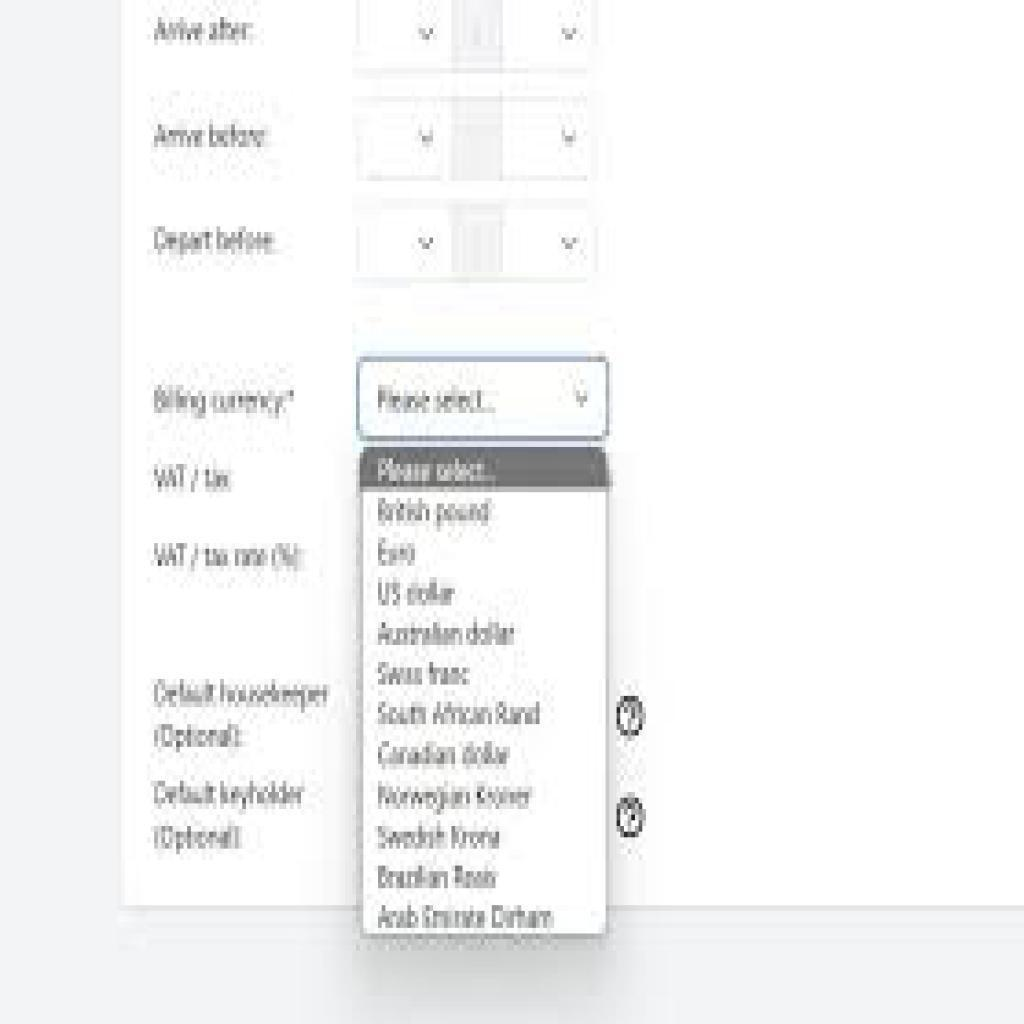dropdown: (356, 356, 607, 442), (506, 99, 604, 178), (356, 207, 451, 285), (355, 104, 455, 176), (507, 211, 596, 286), (503, 2, 595, 74), (360, 4, 454, 73)
